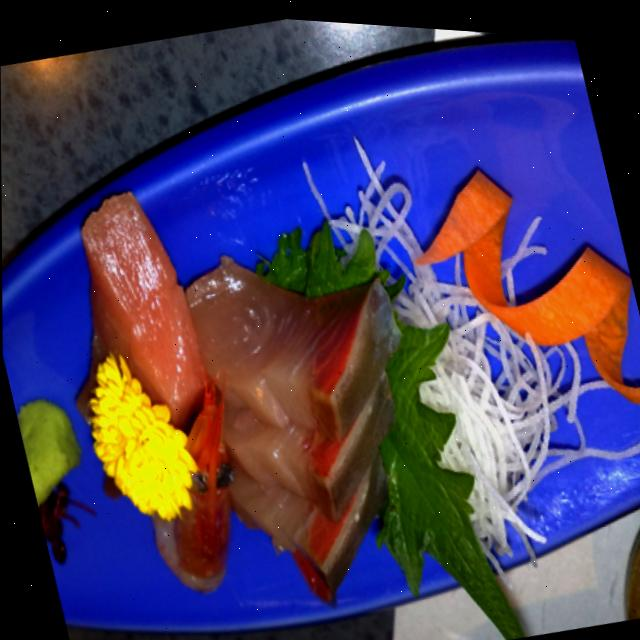刺身生食: (1, 74, 499, 640)
